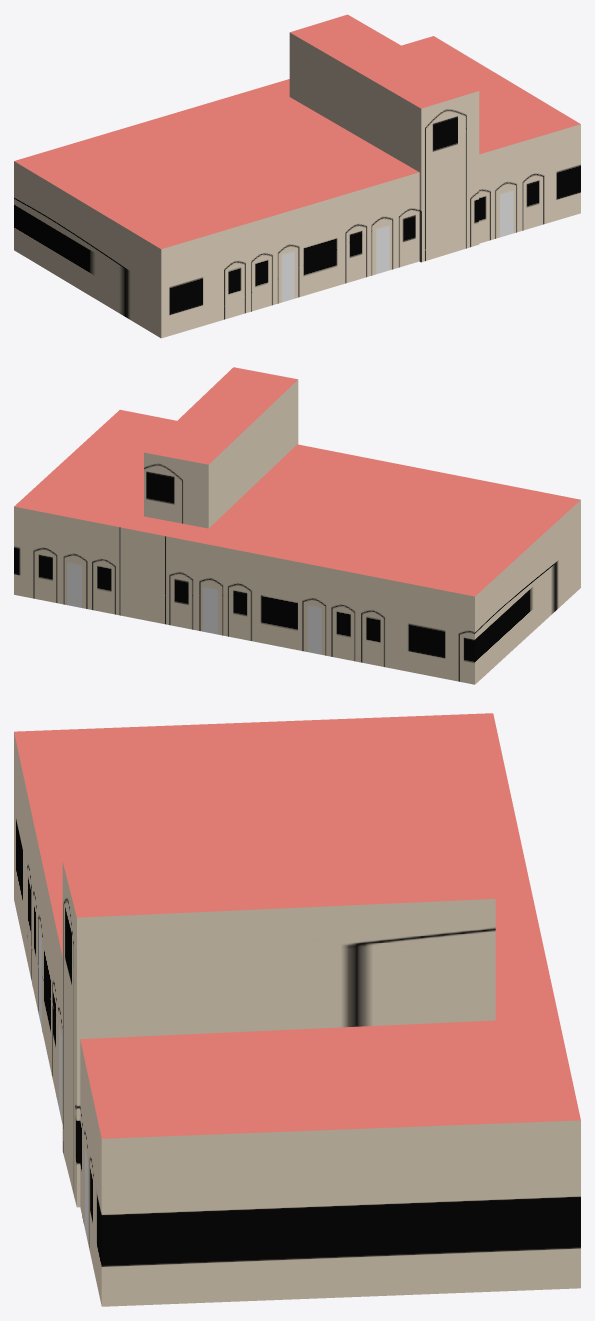
Rendered from CRUAirport.glb.
3 renders of one model, top to bottom at view 1: azimuth 30°, elevation 25°; view 2: azimuth 150°, elevation 25°; view 3: azimuth 270°, elevation 25°, orthographic. The views are drawn at different scales.
Visible parts, largest first — view 1: Buffer Object 32, Buffer Object 33; view 2: Buffer Object 32, Buffer Object 33; view 3: Buffer Object 32, Buffer Object 33.
Boxes of the visible parts, box(x1,y1,x2,y2) form: Buffer Object 32: box(14, 32, 580, 338); Buffer Object 33: box(14, 14, 580, 249); Buffer Object 32: box(14, 380, 580, 684); Buffer Object 33: box(14, 367, 580, 596); Buffer Object 32: box(14, 732, 580, 1306); Buffer Object 33: box(14, 713, 580, 1138).
Bounding box in the file's own units: 28.86 × 9.16 × 16.25.
Materials: 2 (1 with a texture image).
